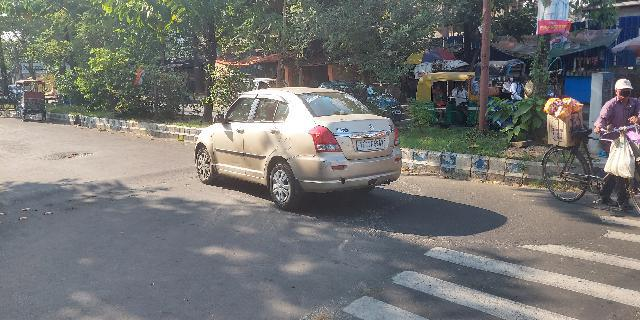Car: (189, 84, 403, 211)
Cycle: (539, 84, 640, 211)
Rickshaw: (6, 75, 46, 123)
